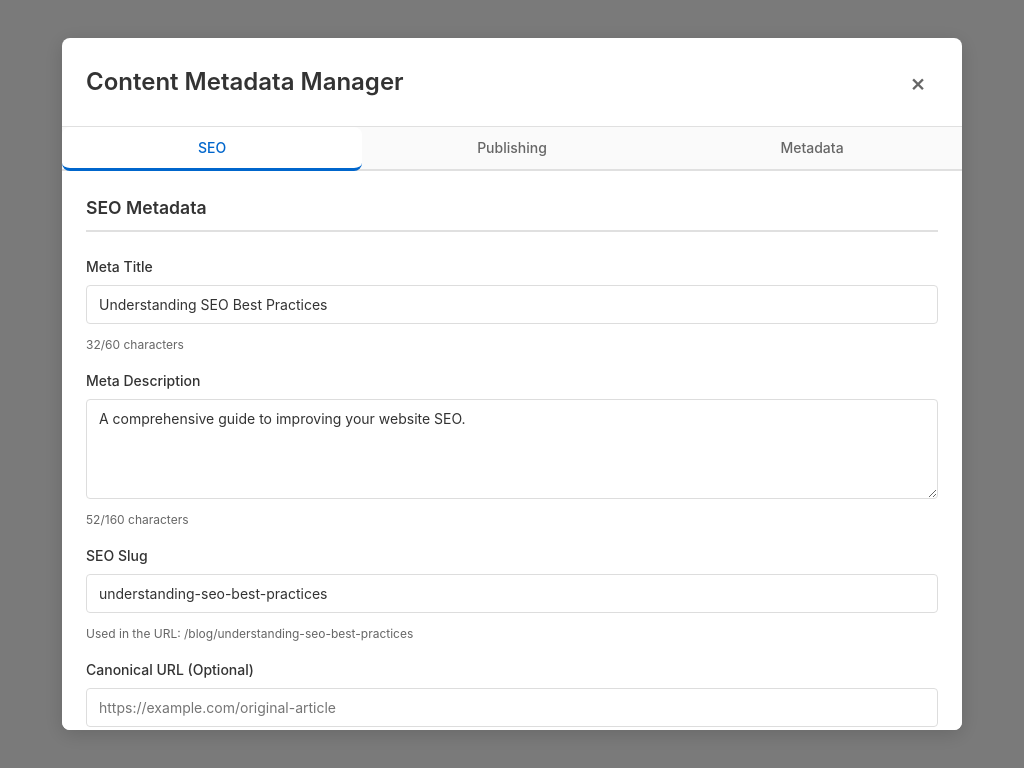
Test: ContentMetadataManager Component › Publishing Tab › updates BlueSky preview when description changes
The image size is (1024, 768).
Click the tab "Publishing" at (512, 149), box [362, 127, 662, 171]
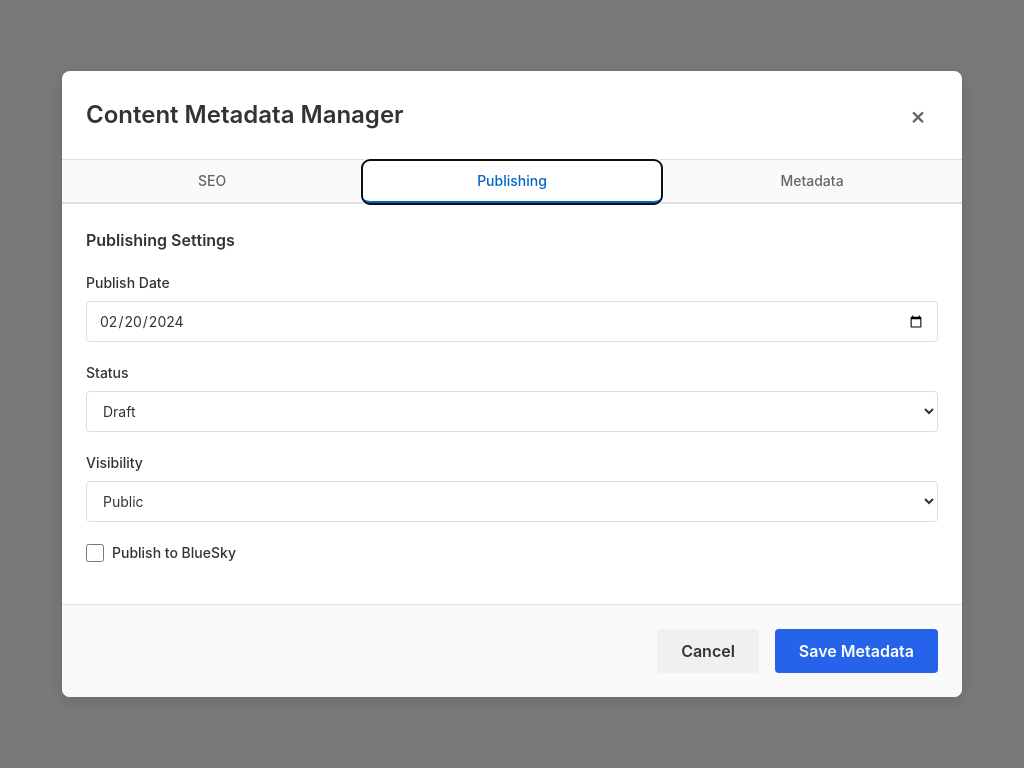
Enable BlueSky
Click the checkbox labelled "Publish to BlueSky" at (95, 552), box [86, 544, 104, 562]
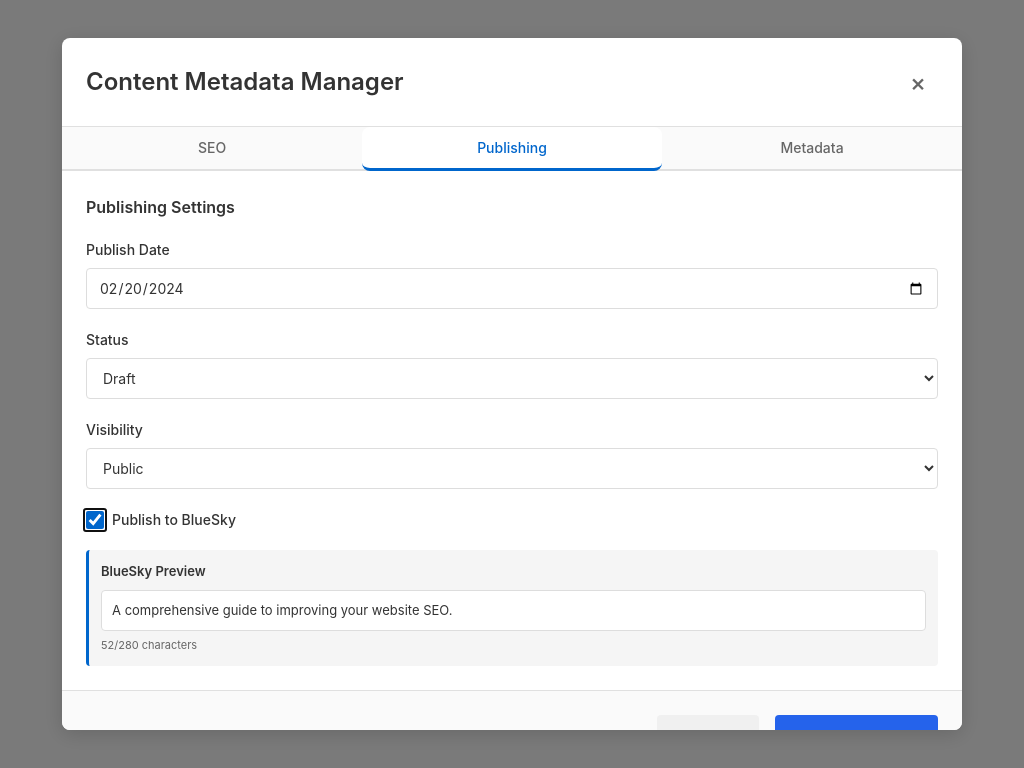
Check: the heading "BlueSky Preview" is shown, box [101, 563, 206, 579]
